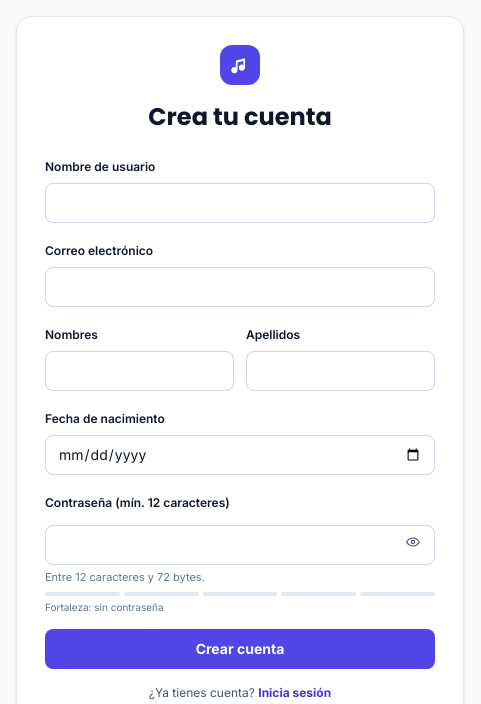
Test: TEST-FE-AUTH: login, registro y guardas › muestra los campos en el orden del PRD y permite revelar la contraseña
The width and height of the screenshot is (481, 704).
Type "Password-segura-123" into the password field labelled "Contraseña (mín. 12 caracteres)".
click(240, 545); type("Password-segura-123")  # box left=45, top=525, right=435, bottom=565
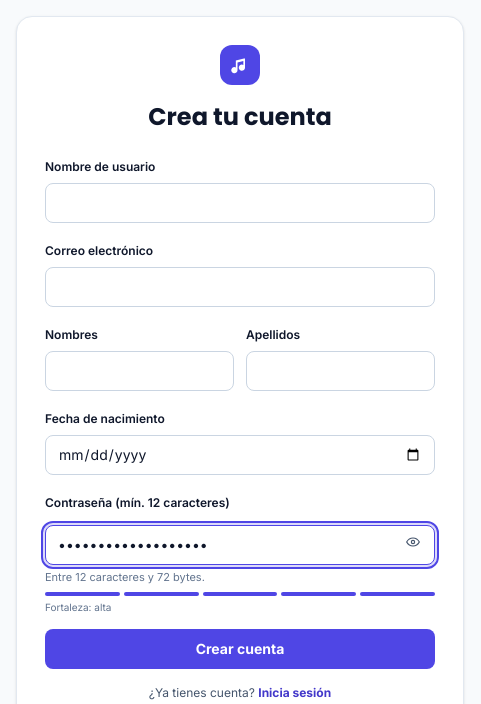
Check: the element named "Fortaleza de la contraseña" has attribute aria-valuetext="Alta", box left=45, top=592, right=435, bottom=596
Click the button named "Mostrar contraseña".
click(413, 542)  # box left=395, top=519, right=431, bottom=565
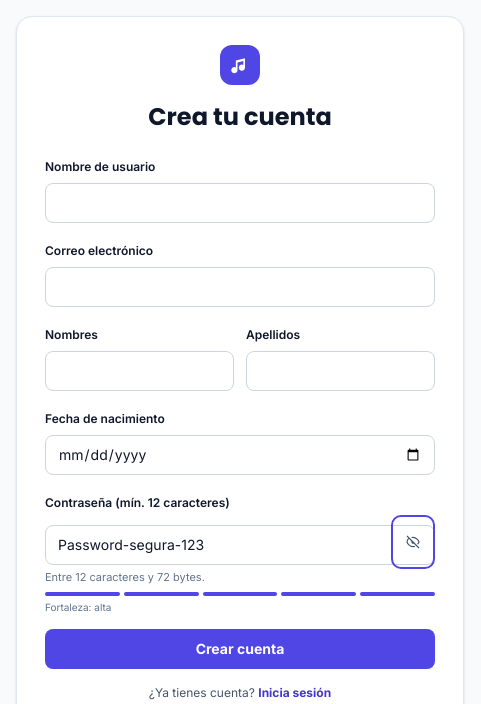
Check: the text "Entre 12 caracteres y 72 bytes." is shown, box left=45, top=570, right=205, bottom=584
Check: the field labelled "Contraseña (mín. 12 caracteres)" shows its text, box left=45, top=525, right=435, bottom=565
